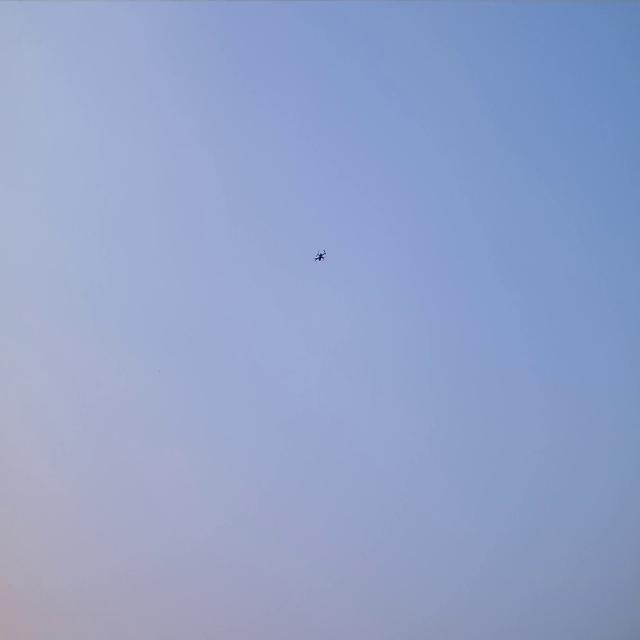UAV: (312, 247, 328, 264)
